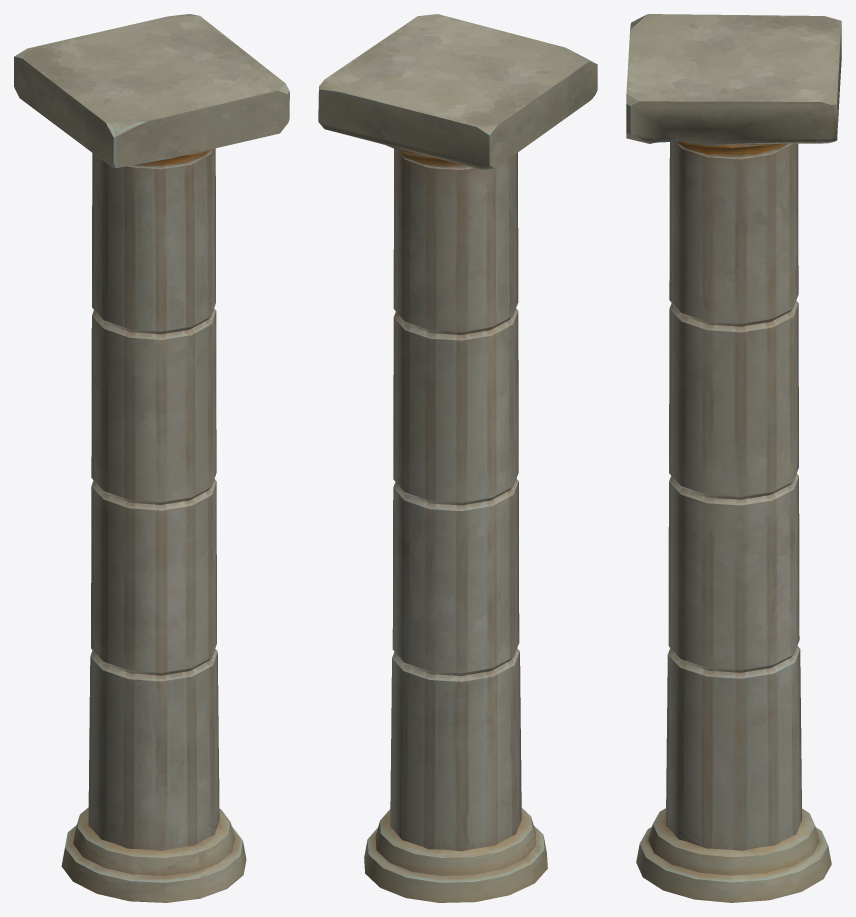
File: Story_0-8_kaipian_pillar_a01.fbx
3 views of the same model, side by side, from view 1: azimuth 30°, elevation 25°; view 2: azimuth 150°, elevation 25°; view 3: azimuth 270°, elevation 25° (orthographic).
Visible parts, largest first — view 1: Story_0_8_kaipian_pillar_a01; view 2: Story_0_8_kaipian_pillar_a01; view 3: Story_0_8_kaipian_pillar_a01.
Boxes of the visible parts, x1,y1,x2,y2 form: Story_0_8_kaipian_pillar_a01: (14,14,289,902); Story_0_8_kaipian_pillar_a01: (318,14,597,902); Story_0_8_kaipian_pillar_a01: (626,14,841,902).
Bounding box in the file's own units: 101 × 426 × 103.
